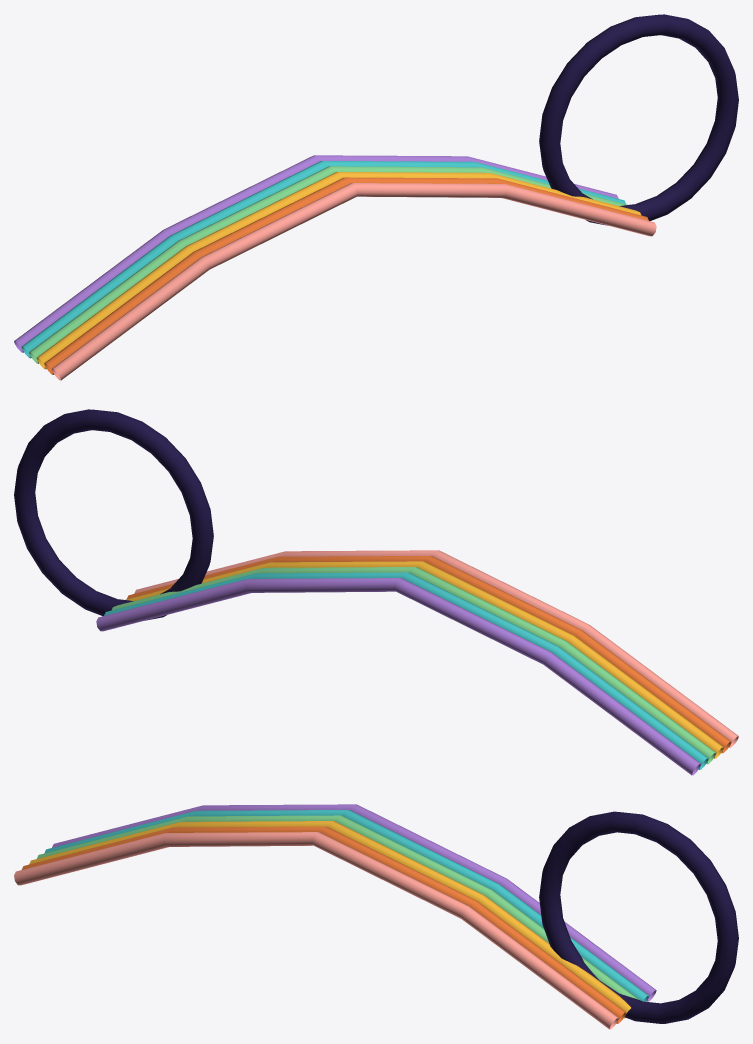
File: r018_sky_lagoon_rainbow_route_rainbow_route.glb
3 views of the same model, one above another, from view 1: azimuth 30°, elevation 25°; view 2: azimuth 150°, elevation 25°; view 3: azimuth 330°, elevation 25° (orthographic).
Parts seen in each view (by area): view 1: r018_sky_lagoon_rainbow_route_rainbow_route.001; view 2: r018_sky_lagoon_rainbow_route_rainbow_route.001; view 3: r018_sky_lagoon_rainbow_route_rainbow_route.001.
Boxes of the visible parts, box(x1,y1,x2,y2) form: r018_sky_lagoon_rainbow_route_rainbow_route.001: box(14, 14, 738, 380); r018_sky_lagoon_rainbow_route_rainbow_route.001: box(14, 409, 738, 775); r018_sky_lagoon_rainbow_route_rainbow_route.001: box(14, 804, 738, 1029).
Bounding box in the file's own units: 11.81 × 3.32 × 1.32.
